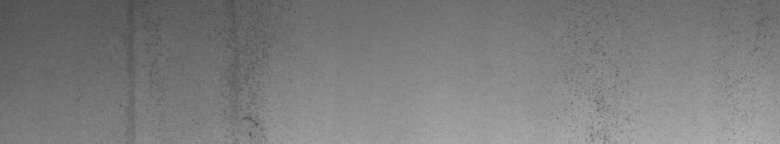ib: (587, 44, 629, 136)
